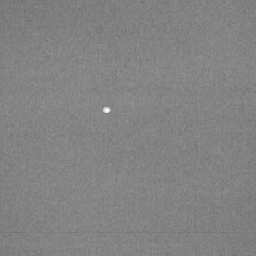Target: (101, 106, 112, 115)
